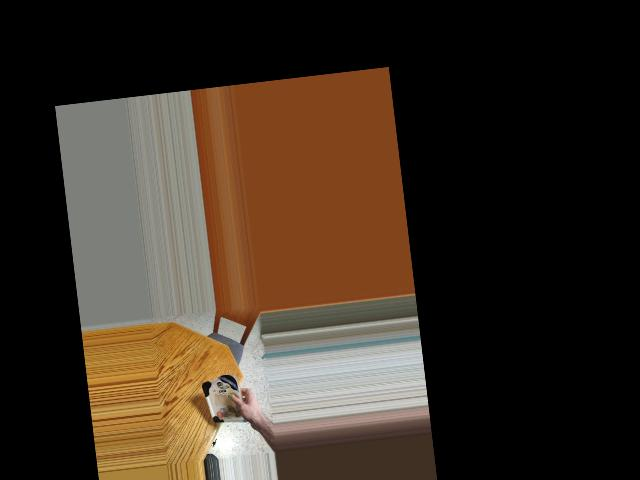cheese: (204, 370, 246, 432)
